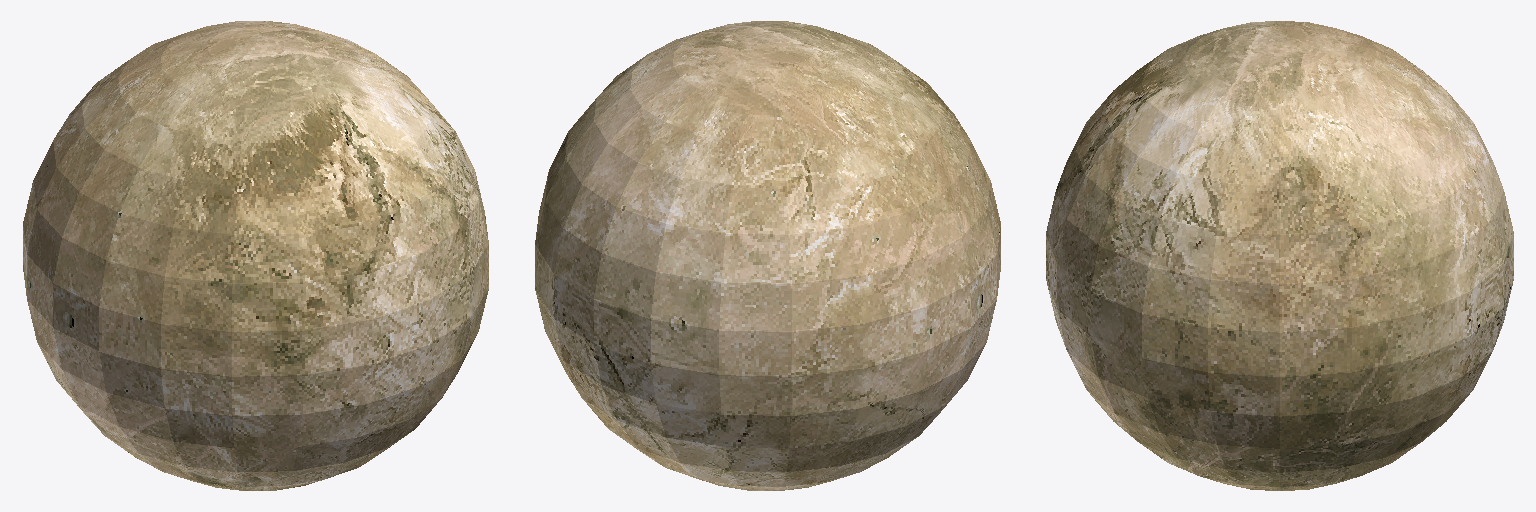
3 renders of one model, left to right at view 1: azimuth 30°, elevation 25°; view 2: azimuth 150°, elevation 25°; view 3: azimuth 270°, elevation 25°, orthographic.
Size of the model in its own units: 1.99 by 2 by 1.99.
Materials: 1 (1 with a texture image).